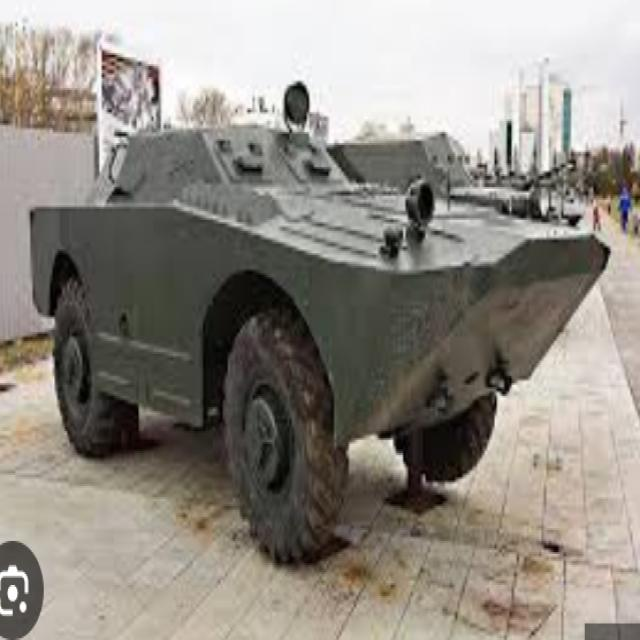MIL_APC: (34, 111, 616, 554)
